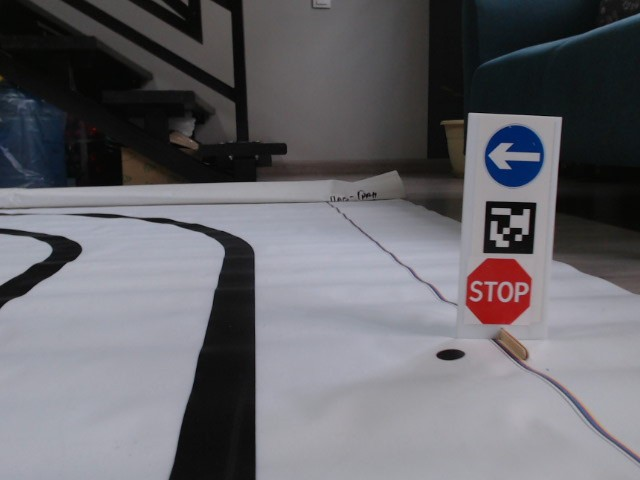Stop: (465, 258, 533, 324)
